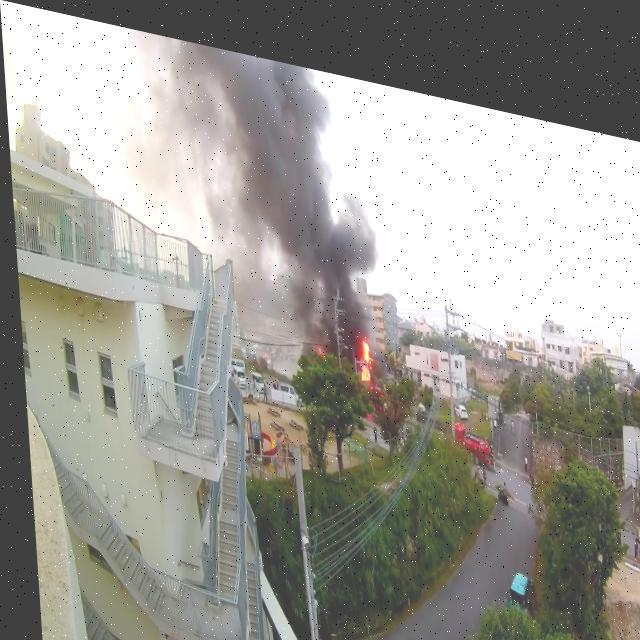Fire: (352, 322, 370, 368)
